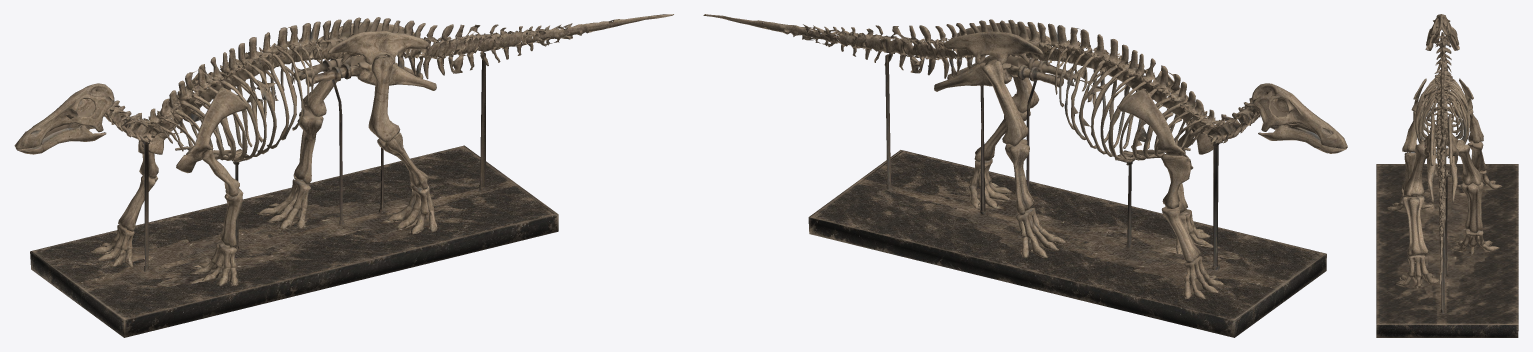
Rendered from skyways-d-lm-dino.glb.
The picture shows the model from 3 angles, left to right: view 1: azimuth 30°, elevation 25°; view 2: azimuth 150°, elevation 25°; view 3: azimuth 270°, elevation 25°; orthographic projection. The views are drawn at different scales.
Parts seen in each view (by area): view 1: skyways-d-lm-dino; view 2: skyways-d-lm-dino; view 3: skyways-d-lm-dino.
Boxes of the visible parts, x1,y1,x2,y2 form: skyways-d-lm-dino: (14, 14, 673, 337); skyways-d-lm-dino: (703, 14, 1347, 337); skyways-d-lm-dino: (1376, 14, 1518, 337).
Size of the model in its own units: 7.5 by 2.49 by 1.86.
Materials: 1 (1 with a texture image).
